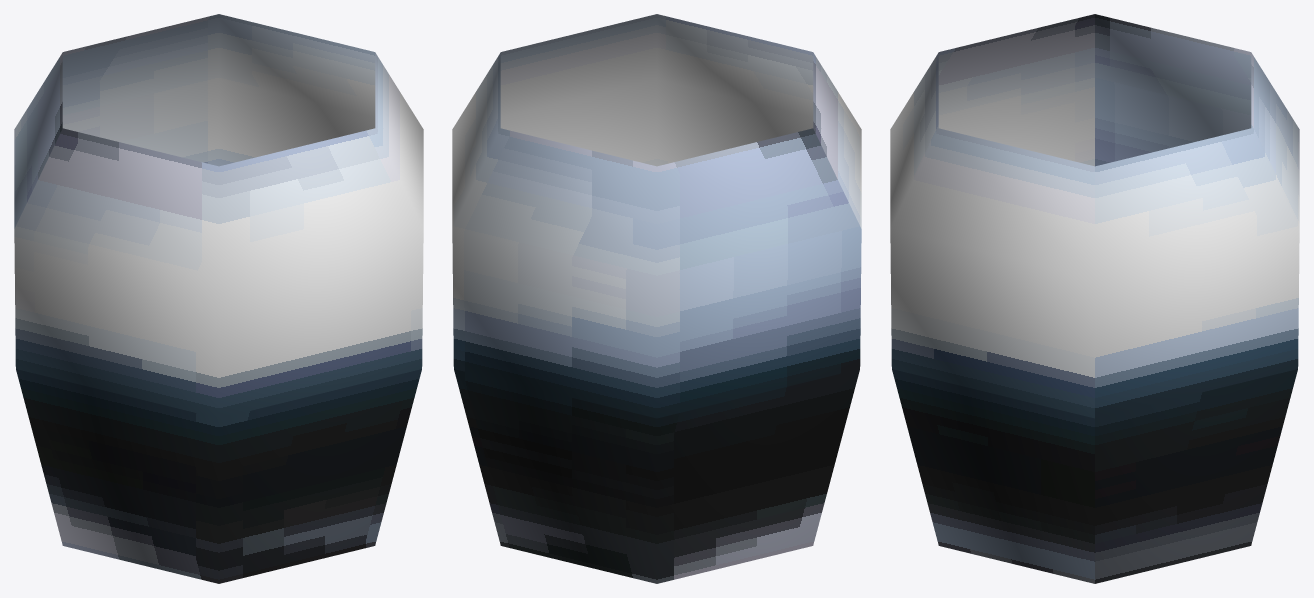
The model's file is ItemBoxShell.obj.
The picture shows the model from 3 angles, left to right: view 1: azimuth 30°, elevation 25°; view 2: azimuth 150°, elevation 25°; view 3: azimuth 270°, elevation 25°; orthographic projection.
Bounding box in the file's own units: 10.85 × 10.58 × 9.4.
Materials: 1 (1 with a texture image).
